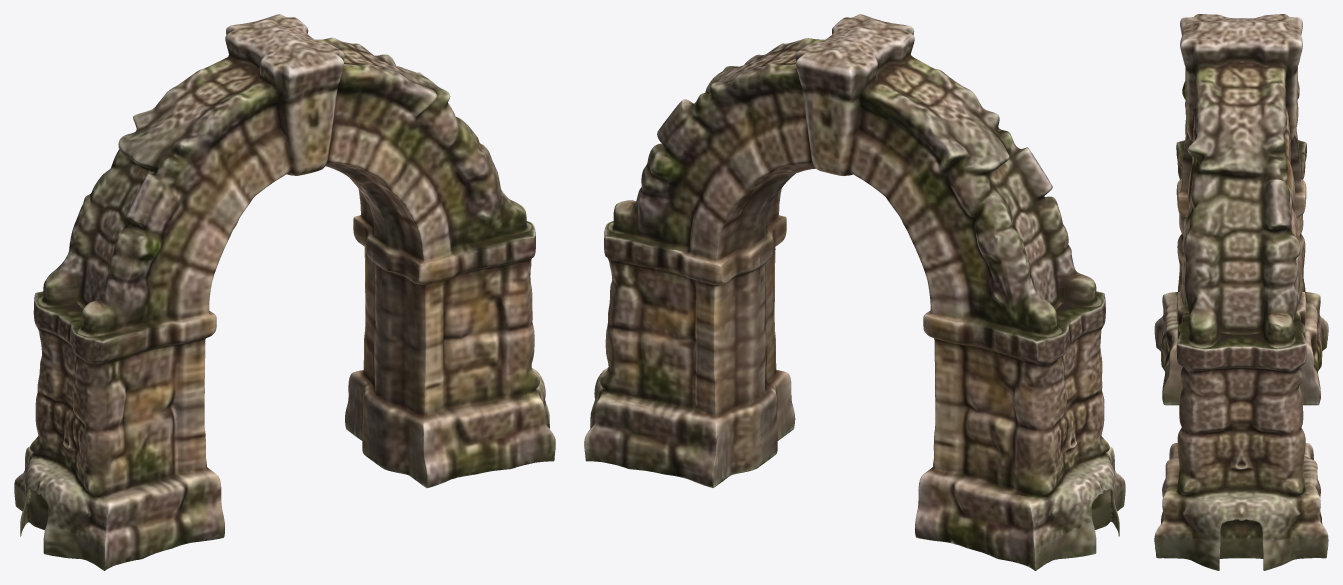
The model's file is Estrutura_md_15.glb.
3 renders of one model, left to right at view 1: azimuth 30°, elevation 25°; view 2: azimuth 150°, elevation 25°; view 3: azimuth 270°, elevation 25°, orthographic. The views are drawn at different scales.
Bounding box in the file's own units: 1.9 × 1.61 × 0.5911.
1 material, 1 textured.
